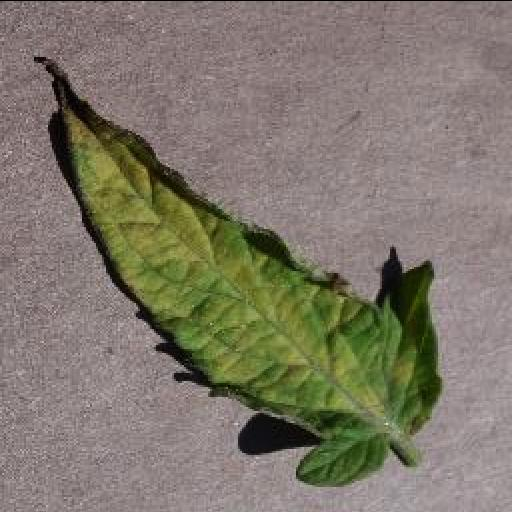disease_tomato: (49, 77, 439, 485)
